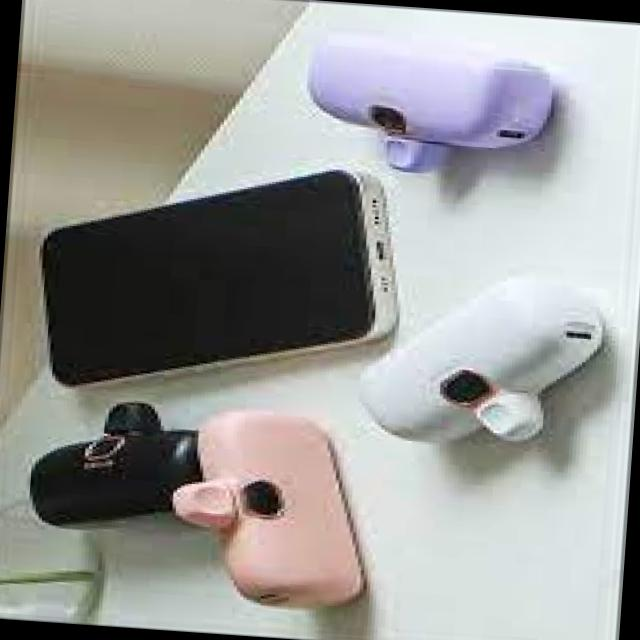portable-charger: (346, 256, 620, 450), (166, 400, 383, 610), (297, 32, 575, 186), (22, 392, 228, 540)
